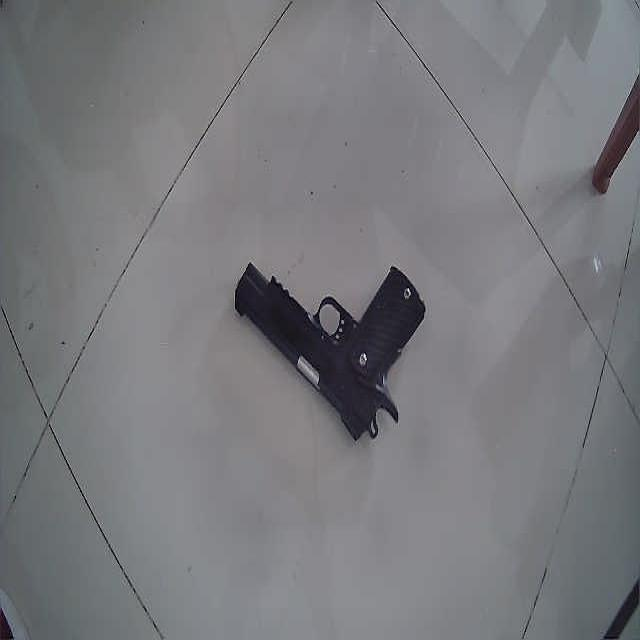pistol: (228, 232, 424, 443)
